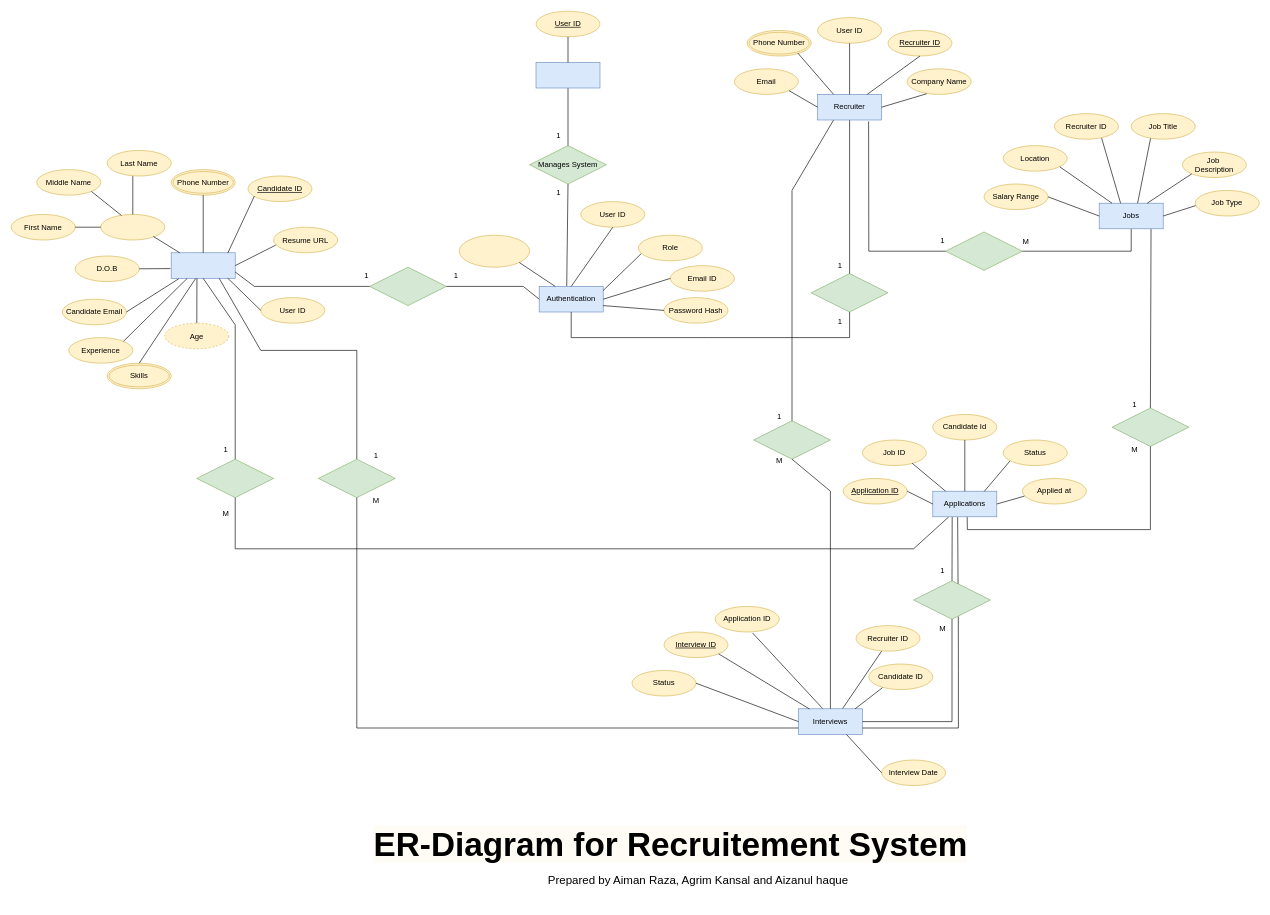
The diagram is 1270 pixels wide and 915 high, and some of its shapes have lost their labels. The centre of each missing label's shape, as x and y in pixels:
"Admin" belongs at point 567,75.
"Applies For" belongs at point 235,478.
"Attends" belongs at point 356,478.
"Authentication ID" belongs at point 494,251.
"Candidate" belongs at point 203,265.
"Candidate Name" belongs at point 132,227.
"Conducts" belongs at point 791,439.
"Leads To" belongs at point 951,599.
"Posts" belongs at point 983,250.
"Recieves" belongs at point 1150,426.
"Register As" belongs at point 849,292.
"Registers As" belongs at point 407,286.
